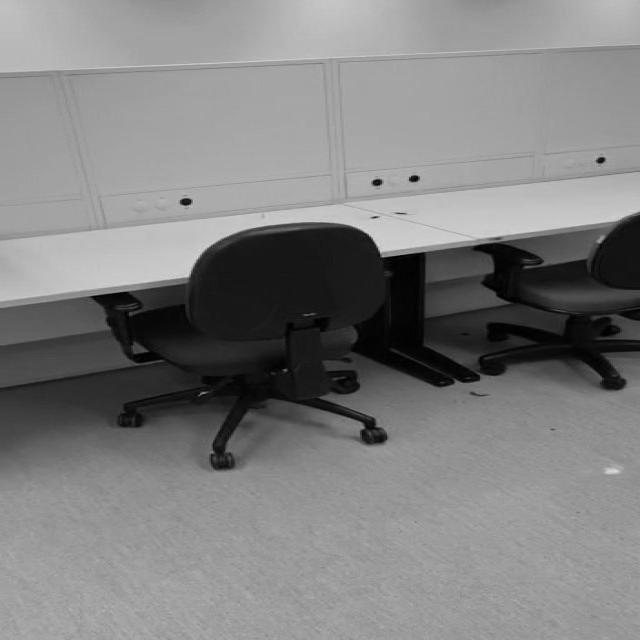cadeira-azul: (92, 222, 390, 470)
